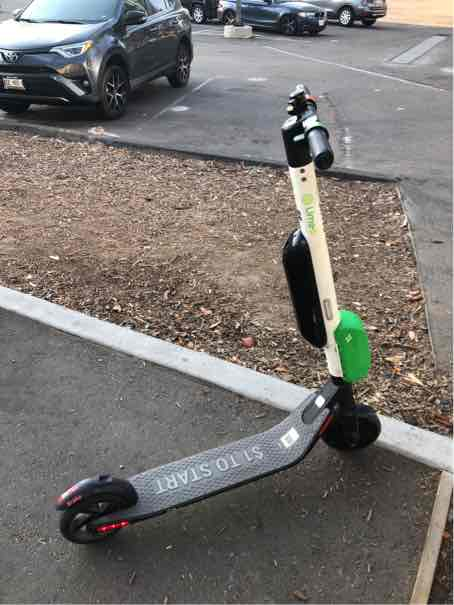scooter: (50, 73, 385, 561)
